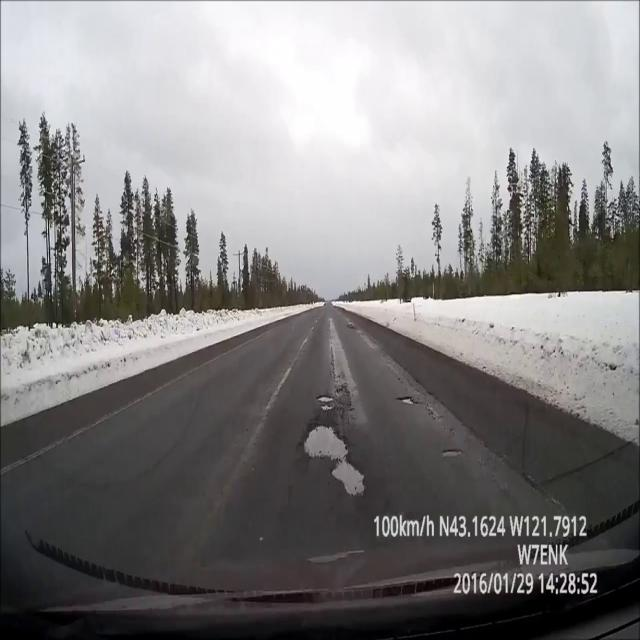Pothole: (302, 426, 351, 458), (328, 459, 368, 498), (398, 392, 420, 407), (318, 394, 337, 410), (442, 448, 465, 458), (346, 322, 358, 330)
